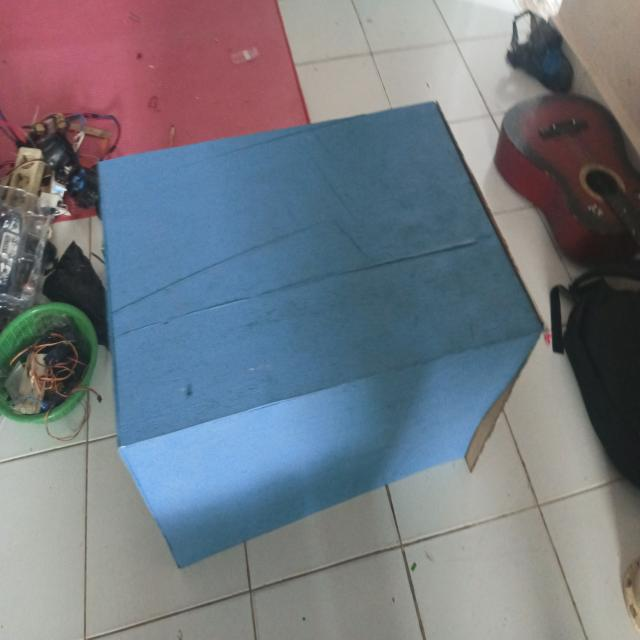blue_box: (57, 77, 550, 616)
